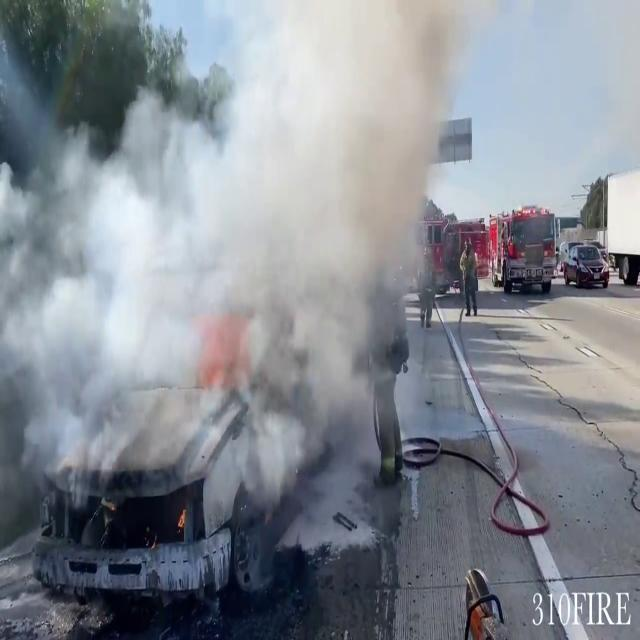Smoke: (0, 4, 450, 518)
